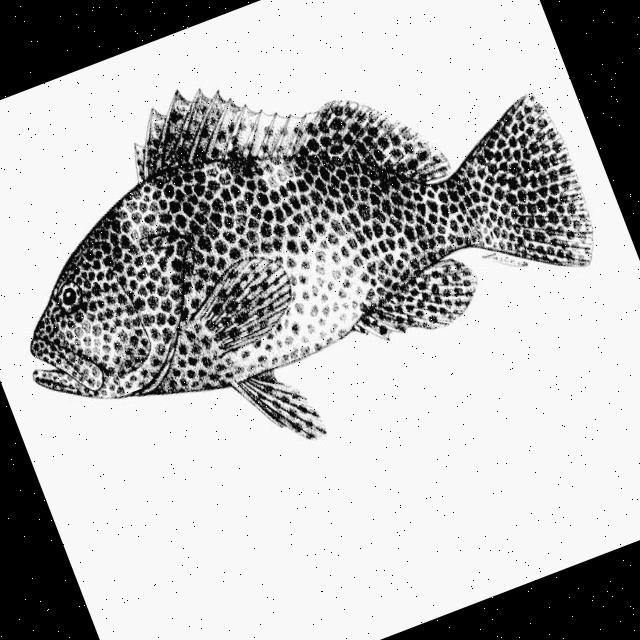ikan: (0, 0, 632, 527)
